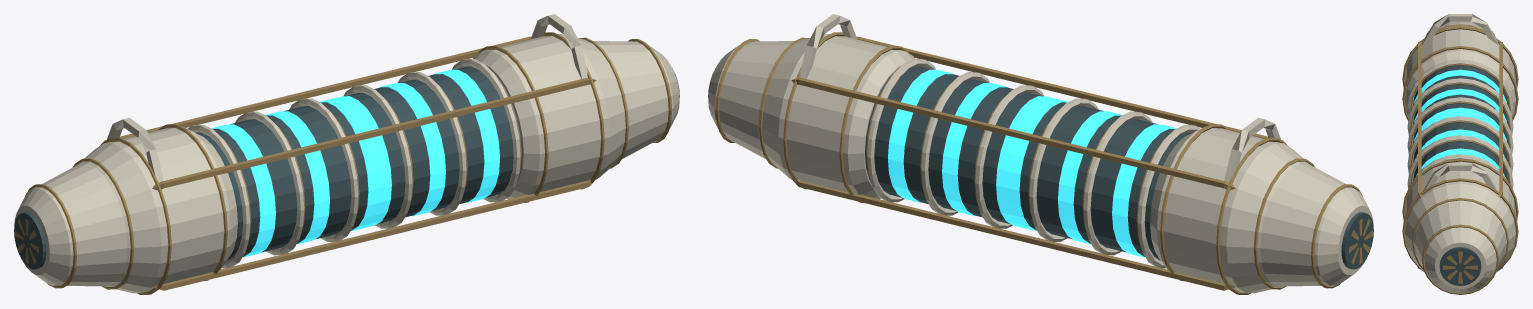
The model's file is AST-ENG-007.glb.
3 views of the same model, side by side, from view 1: azimuth 30°, elevation 25°; view 2: azimuth 150°, elevation 25°; view 3: azimuth 270°, elevation 25° (orthographic). The views are drawn at different scales.
Parts seen in each view (by area): view 1: FUS_ivory_enamel, FUS_recess, FUS_champagne_metal, FUS_energy; view 2: FUS_ivory_enamel, FUS_recess, FUS_champagne_metal, FUS_energy; view 3: FUS_ivory_enamel, FUS_champagne_metal, FUS_recess, FUS_energy.
Boxes of the visible parts, box(x1,y1,x2,y2) form: FUS_ivory_enamel: box(14, 14, 679, 293); FUS_recess: box(14, 66, 679, 269); FUS_champagne_metal: box(15, 32, 672, 294); FUS_energy: box(211, 69, 499, 257); FUS_ivory_enamel: box(708, 14, 1373, 293); FUS_recess: box(708, 66, 1373, 269); FUS_champagne_metal: box(715, 32, 1372, 294); FUS_energy: box(888, 69, 1176, 257); FUS_ivory_enamel: box(1405, 14, 1515, 293); FUS_champagne_metal: box(1402, 24, 1518, 294); FUS_recess: box(1413, 65, 1507, 285); FUS_energy: box(1414, 69, 1506, 175).
Size of the model in its own units: 16.56 by 4.06 by 3.62.
Materials: 4 (2 with a texture image).
